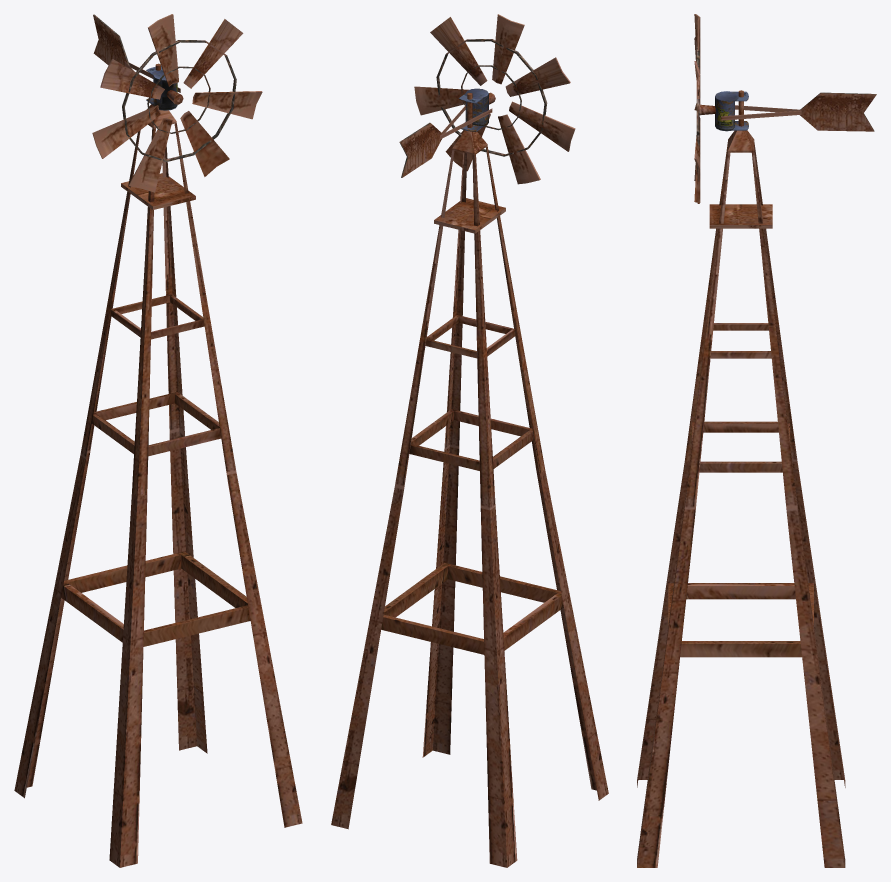
The model's file is windmill_metal_rust.FBX.
The picture shows the model from 3 angles, left to right: view 1: azimuth 30°, elevation 25°; view 2: azimuth 150°, elevation 25°; view 3: azimuth 270°, elevation 25°; orthographic projection. The views are drawn at different scales.
Visible parts, largest first — view 1: prop_Old_WindMill, prop_Old_WindMill_FAN; view 2: prop_Old_WindMill, prop_Old_WindMill_FAN; view 3: prop_Old_WindMill, prop_Old_WindMill_FAN.
Boxes of the visible parts, bbox=[...] form: prop_Old_WindMill: bbox=[14, 14, 302, 867]; prop_Old_WindMill_FAN: bbox=[92, 14, 262, 192]; prop_Old_WindMill: bbox=[331, 88, 608, 867]; prop_Old_WindMill_FAN: bbox=[414, 14, 575, 184]; prop_Old_WindMill: bbox=[637, 90, 876, 867]; prop_Old_WindMill_FAN: bbox=[694, 14, 715, 203].
Bounding box in the file's own units: 452 × 1918 × 521.
Materials: 1 (1 with a texture image).
